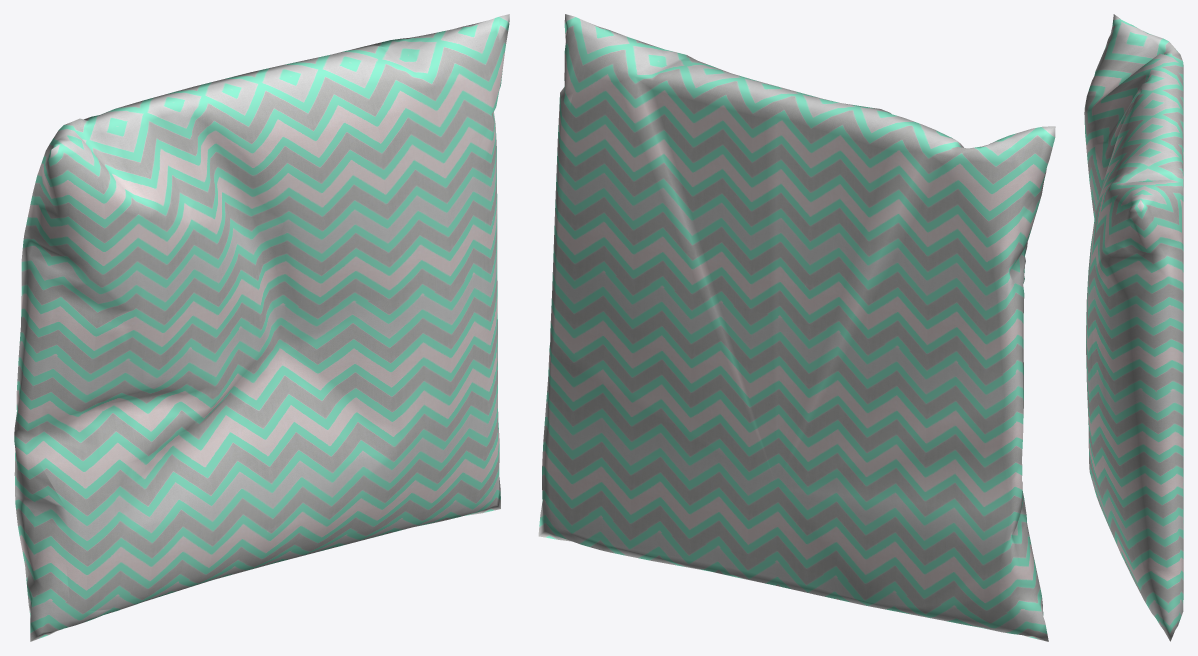
File: Pillow 2.FBX
3 views of the same model, side by side, from view 1: azimuth 30°, elevation 25°; view 2: azimuth 150°, elevation 25°; view 3: azimuth 270°, elevation 25° (orthographic). The views are drawn at different scales.
Visible parts, largest first — view 1: pillow 2; view 2: pillow 2; view 3: pillow 2.
Part boxes in pixels (x1,y1,x2,y2): pillow 2: (14,14,509,641); pillow 2: (538,14,1055,641); pillow 2: (1084,14,1183,641).
Size of the model in its own units: 36.26 by 36.07 by 7.46.
